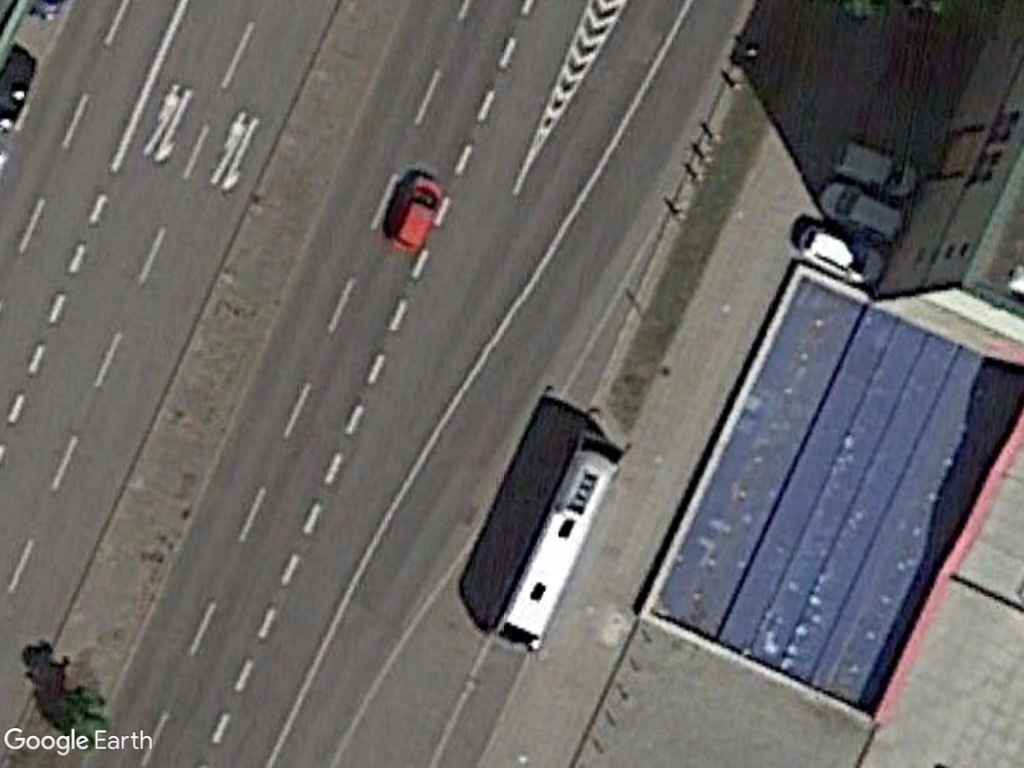bus: (494, 438, 630, 653)
car: (793, 219, 886, 286), (834, 137, 921, 200), (385, 173, 443, 256)
van: (814, 178, 909, 245)
